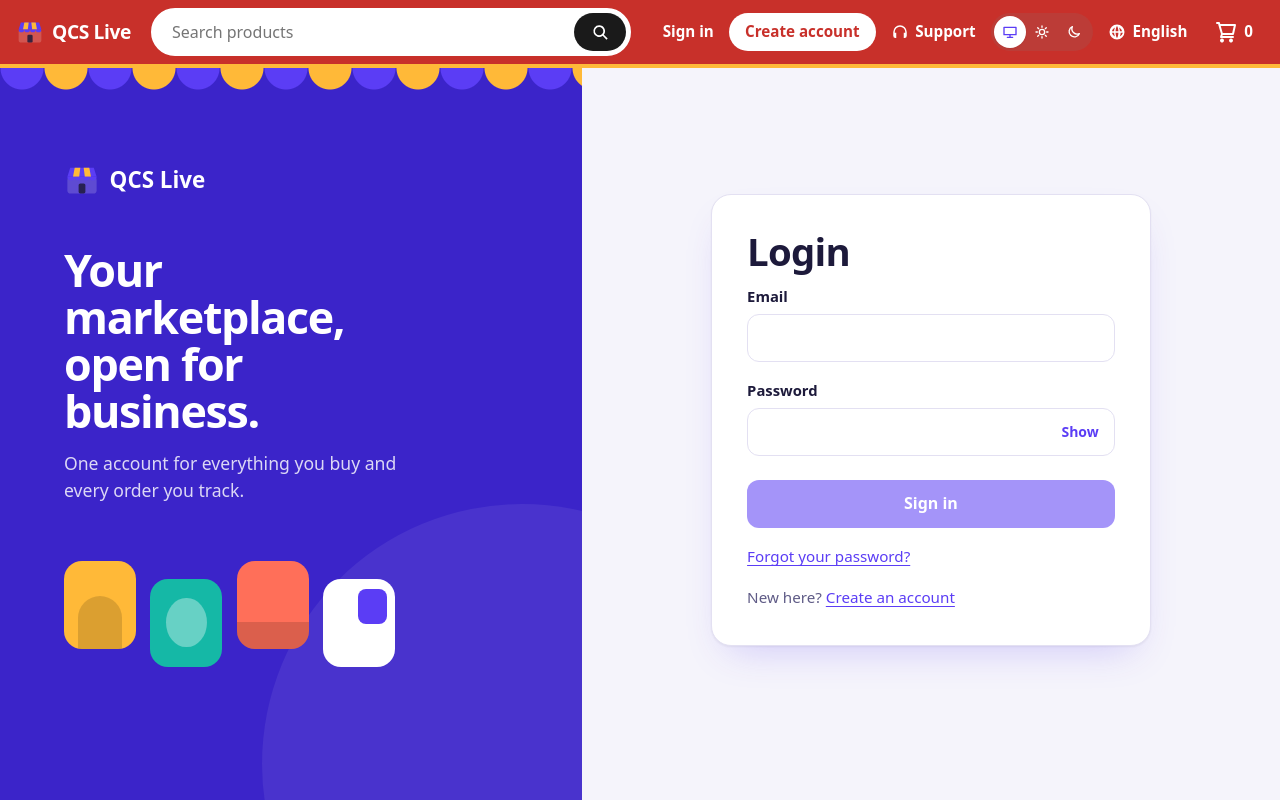
login › shows the server error and stays on the page when credentials are wrong
Type "jane@example.com" into the field labelled "Email" at (931, 338), box [747,314,1115,362]
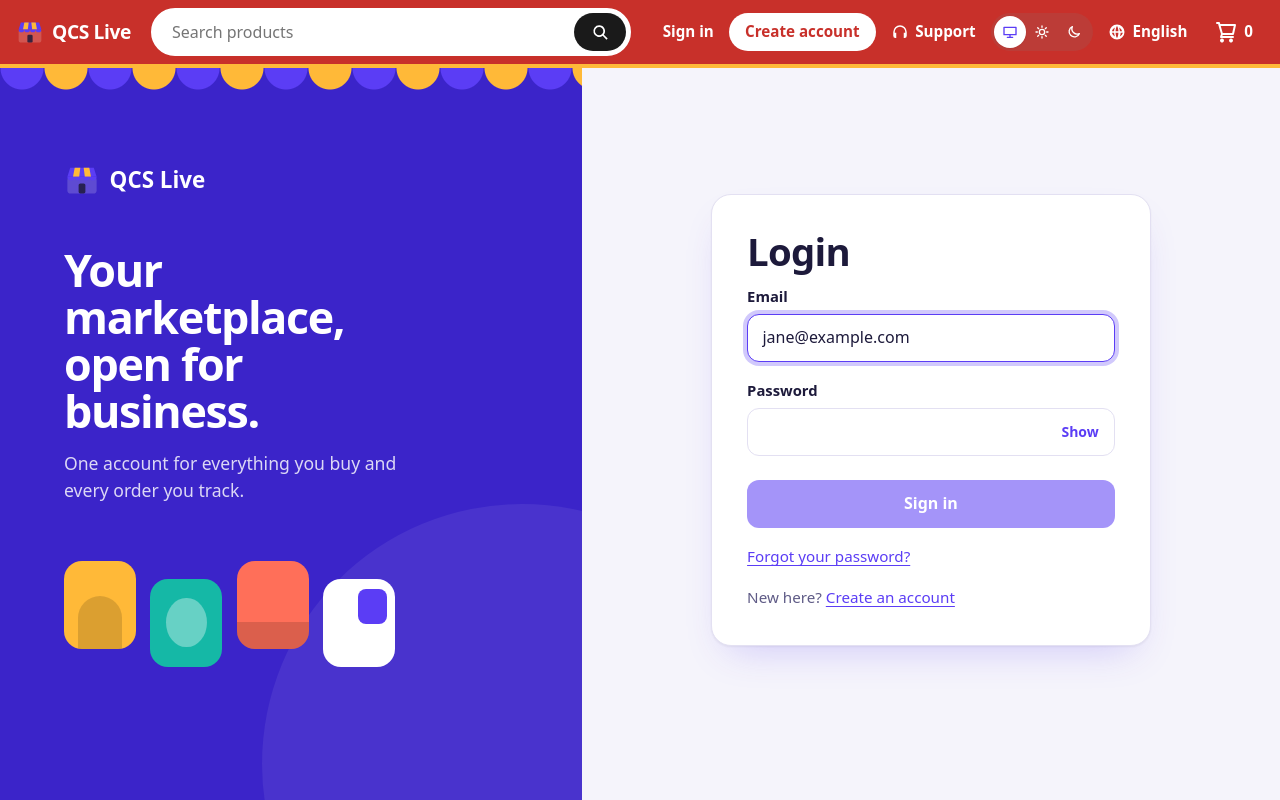
Type "wrong-password-1" into the password field labelled "Password" at (931, 432), box [747,408,1115,456]
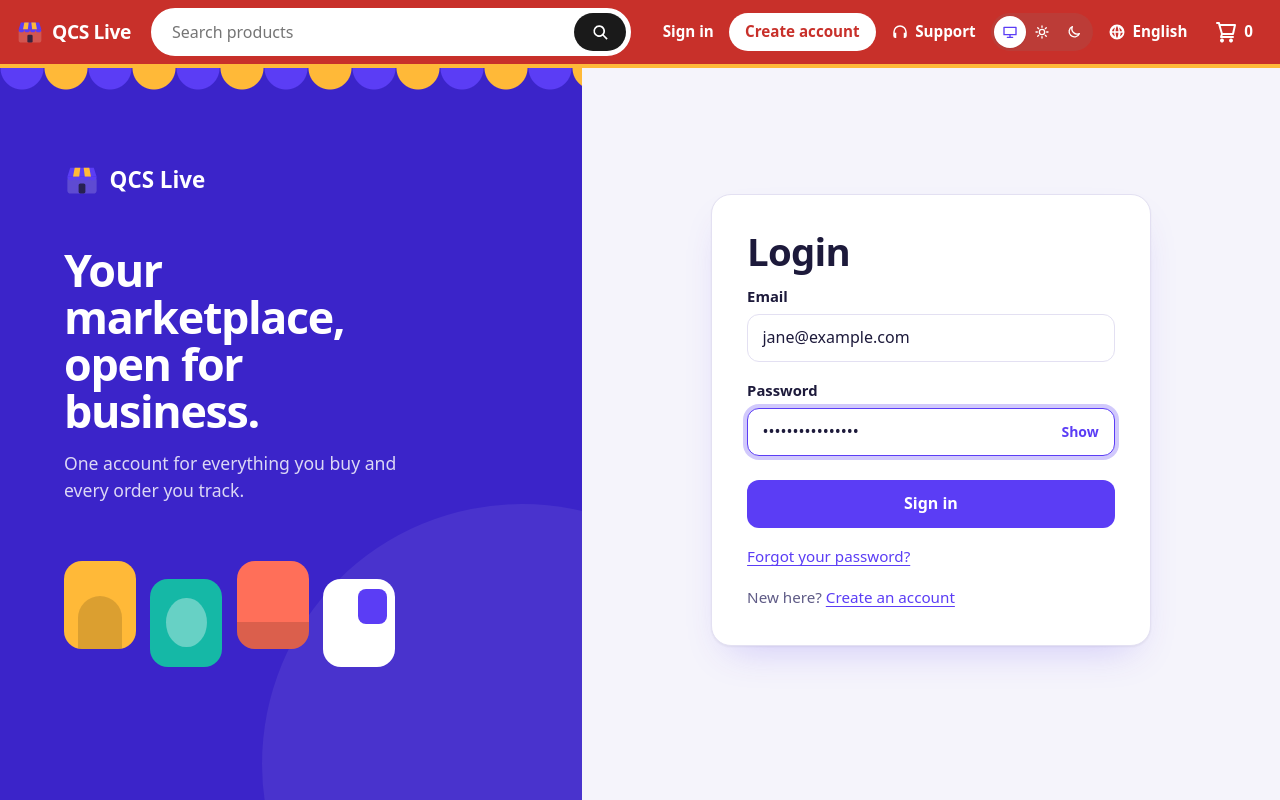
Click the button "Sign in" at (931, 504), box [747,480,1115,528]
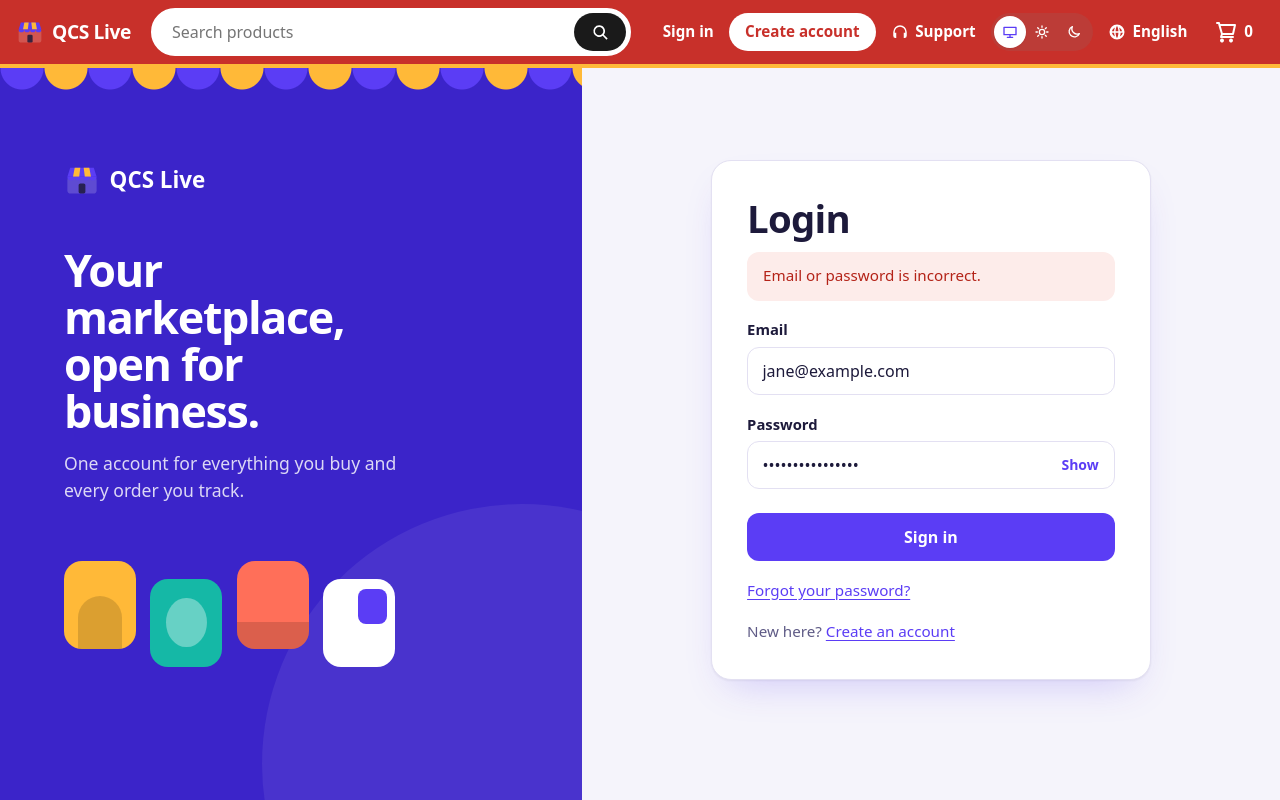
Expected: the heading "Login" is shown, [747,192,850,244]
Result: the message reads "Email or password is incorrect." at [763,266,981,286]
